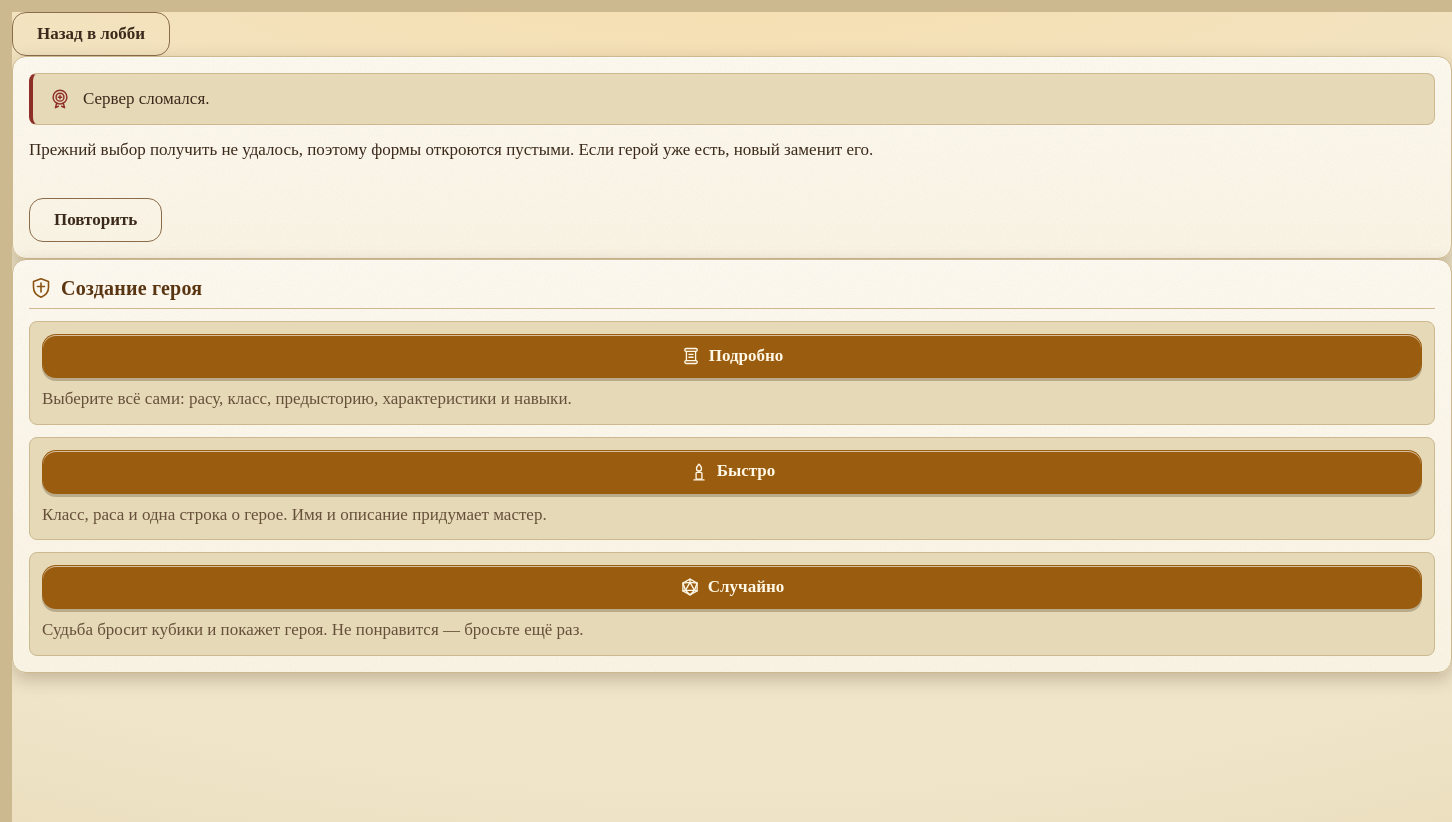
Test: свой герой: запрос и состояния › «Повторить» после сбоя: герой пришёл — «Изменить героя» вместо сообщения
Expected: the message "Сервер сломался." is shown, [29, 73, 1435, 124]
Click the button "Повторить" at (96, 220), box [29, 198, 162, 242]
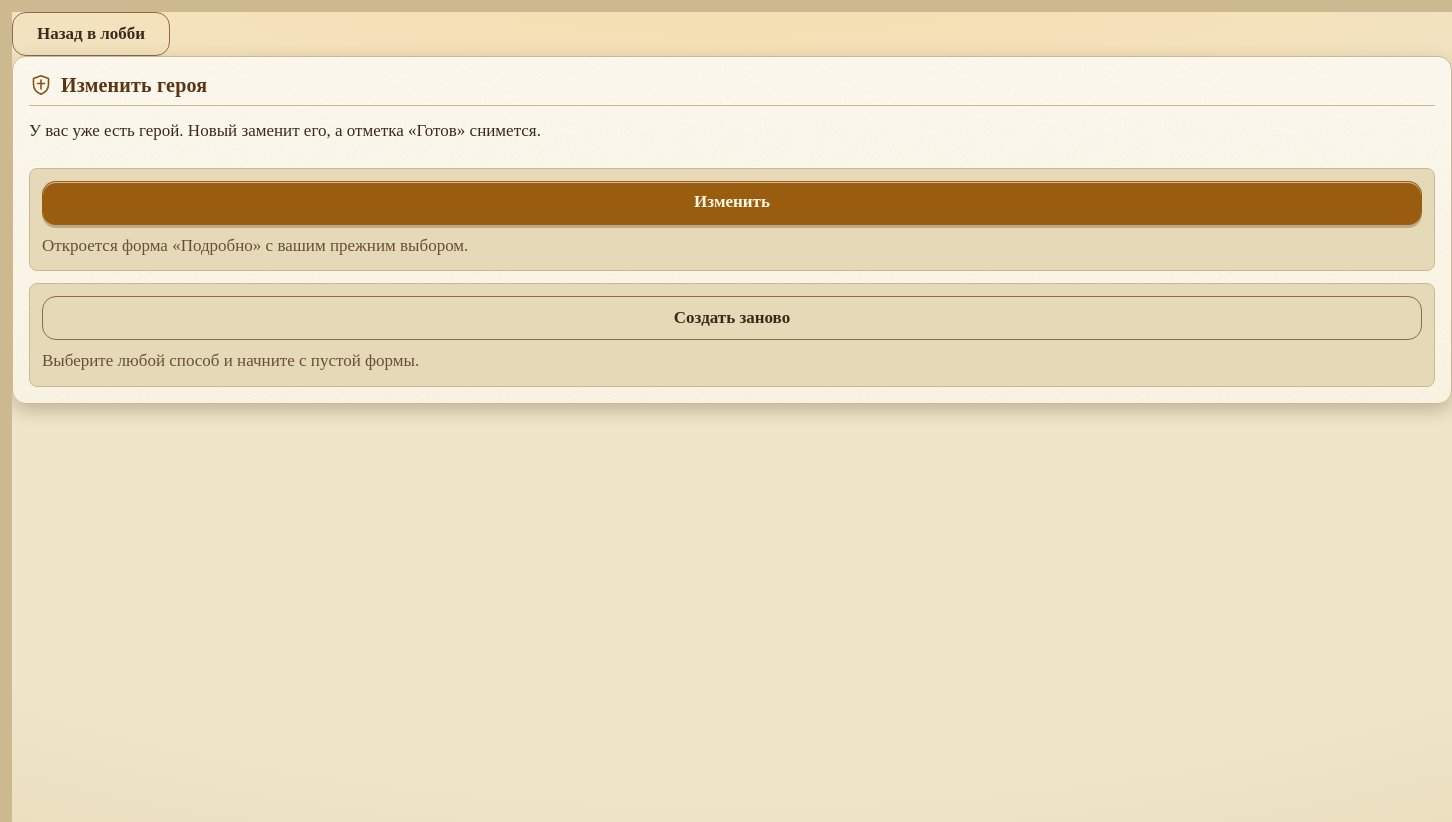
Expected: the heading "Изменить героя" is shown, [61, 73, 207, 97]
Expected: the message "Сервер сломался." is gone
Expected: the button "Изменить" is enabled, [42, 180, 1422, 224]
